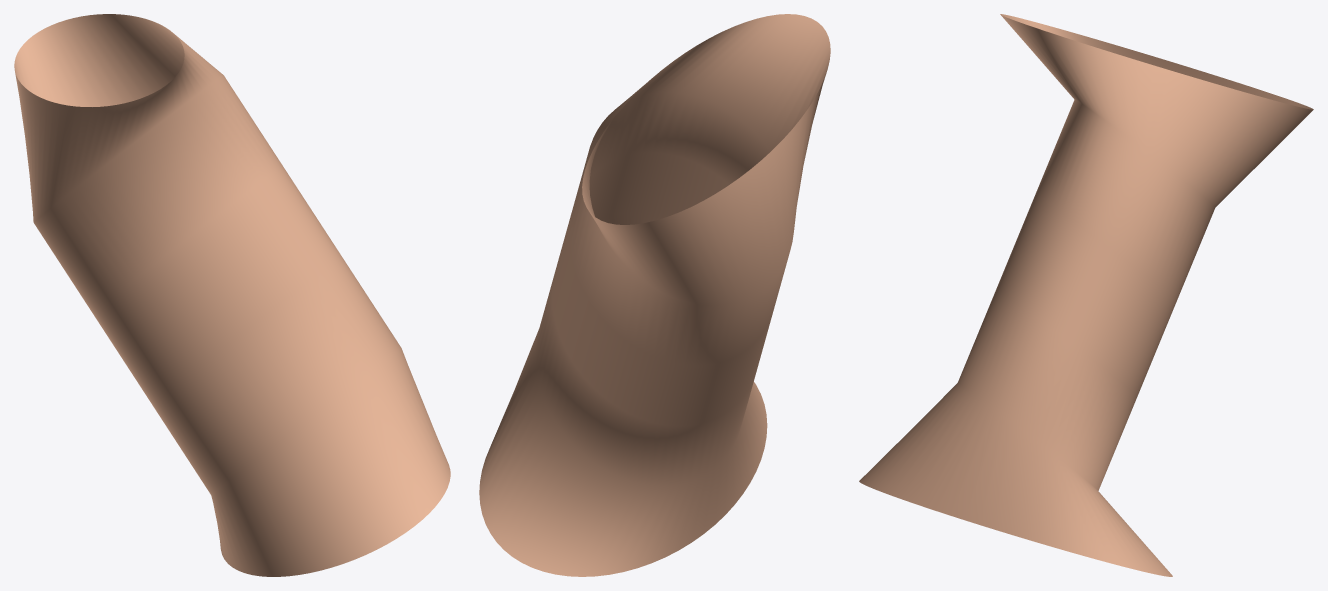
The model's file is dustus_pda.gltf.
The picture shows the model from 3 angles, left to right: view 1: azimuth 30°, elevation 25°; view 2: azimuth 150°, elevation 25°; view 3: azimuth 270°, elevation 25°; orthographic projection. The views are drawn at different scales.
Parts seen in each view (by area): view 1: Cylinder.012; view 2: Cylinder.012; view 3: Cylinder.012.
Boxes of the visible parts, x1,y1,x2,y2 form: Cylinder.012: (14, 14, 450, 576); Cylinder.012: (479, 14, 830, 576); Cylinder.012: (859, 14, 1313, 576).
Size of the model in its own units: 0.5026 by 0.7904 by 0.6639.
